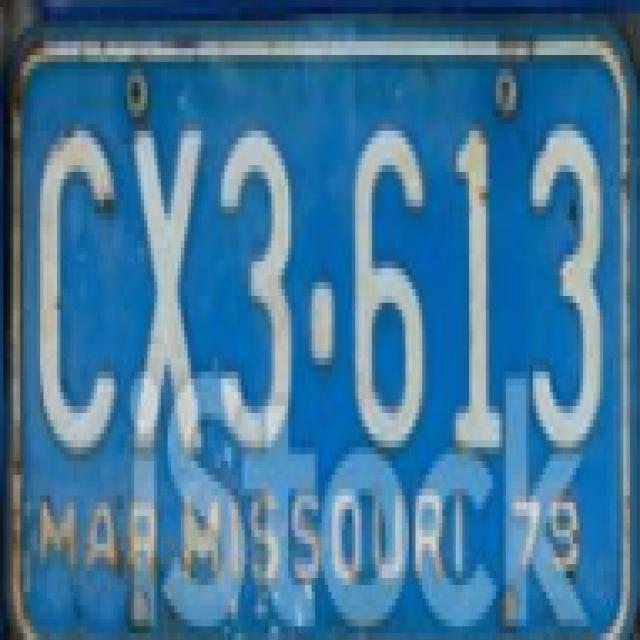1: (450, 111, 512, 470)
3: (520, 108, 614, 461), (215, 115, 301, 451)
6: (349, 111, 437, 461)
C: (30, 106, 124, 462)
X: (127, 111, 210, 454)
